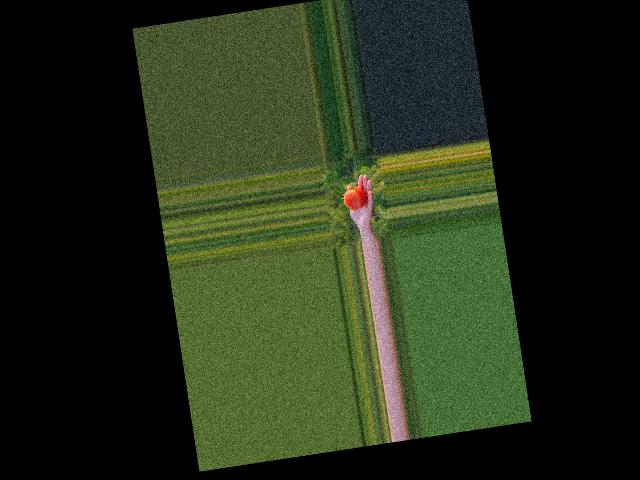tomato: (342, 186, 369, 210)
